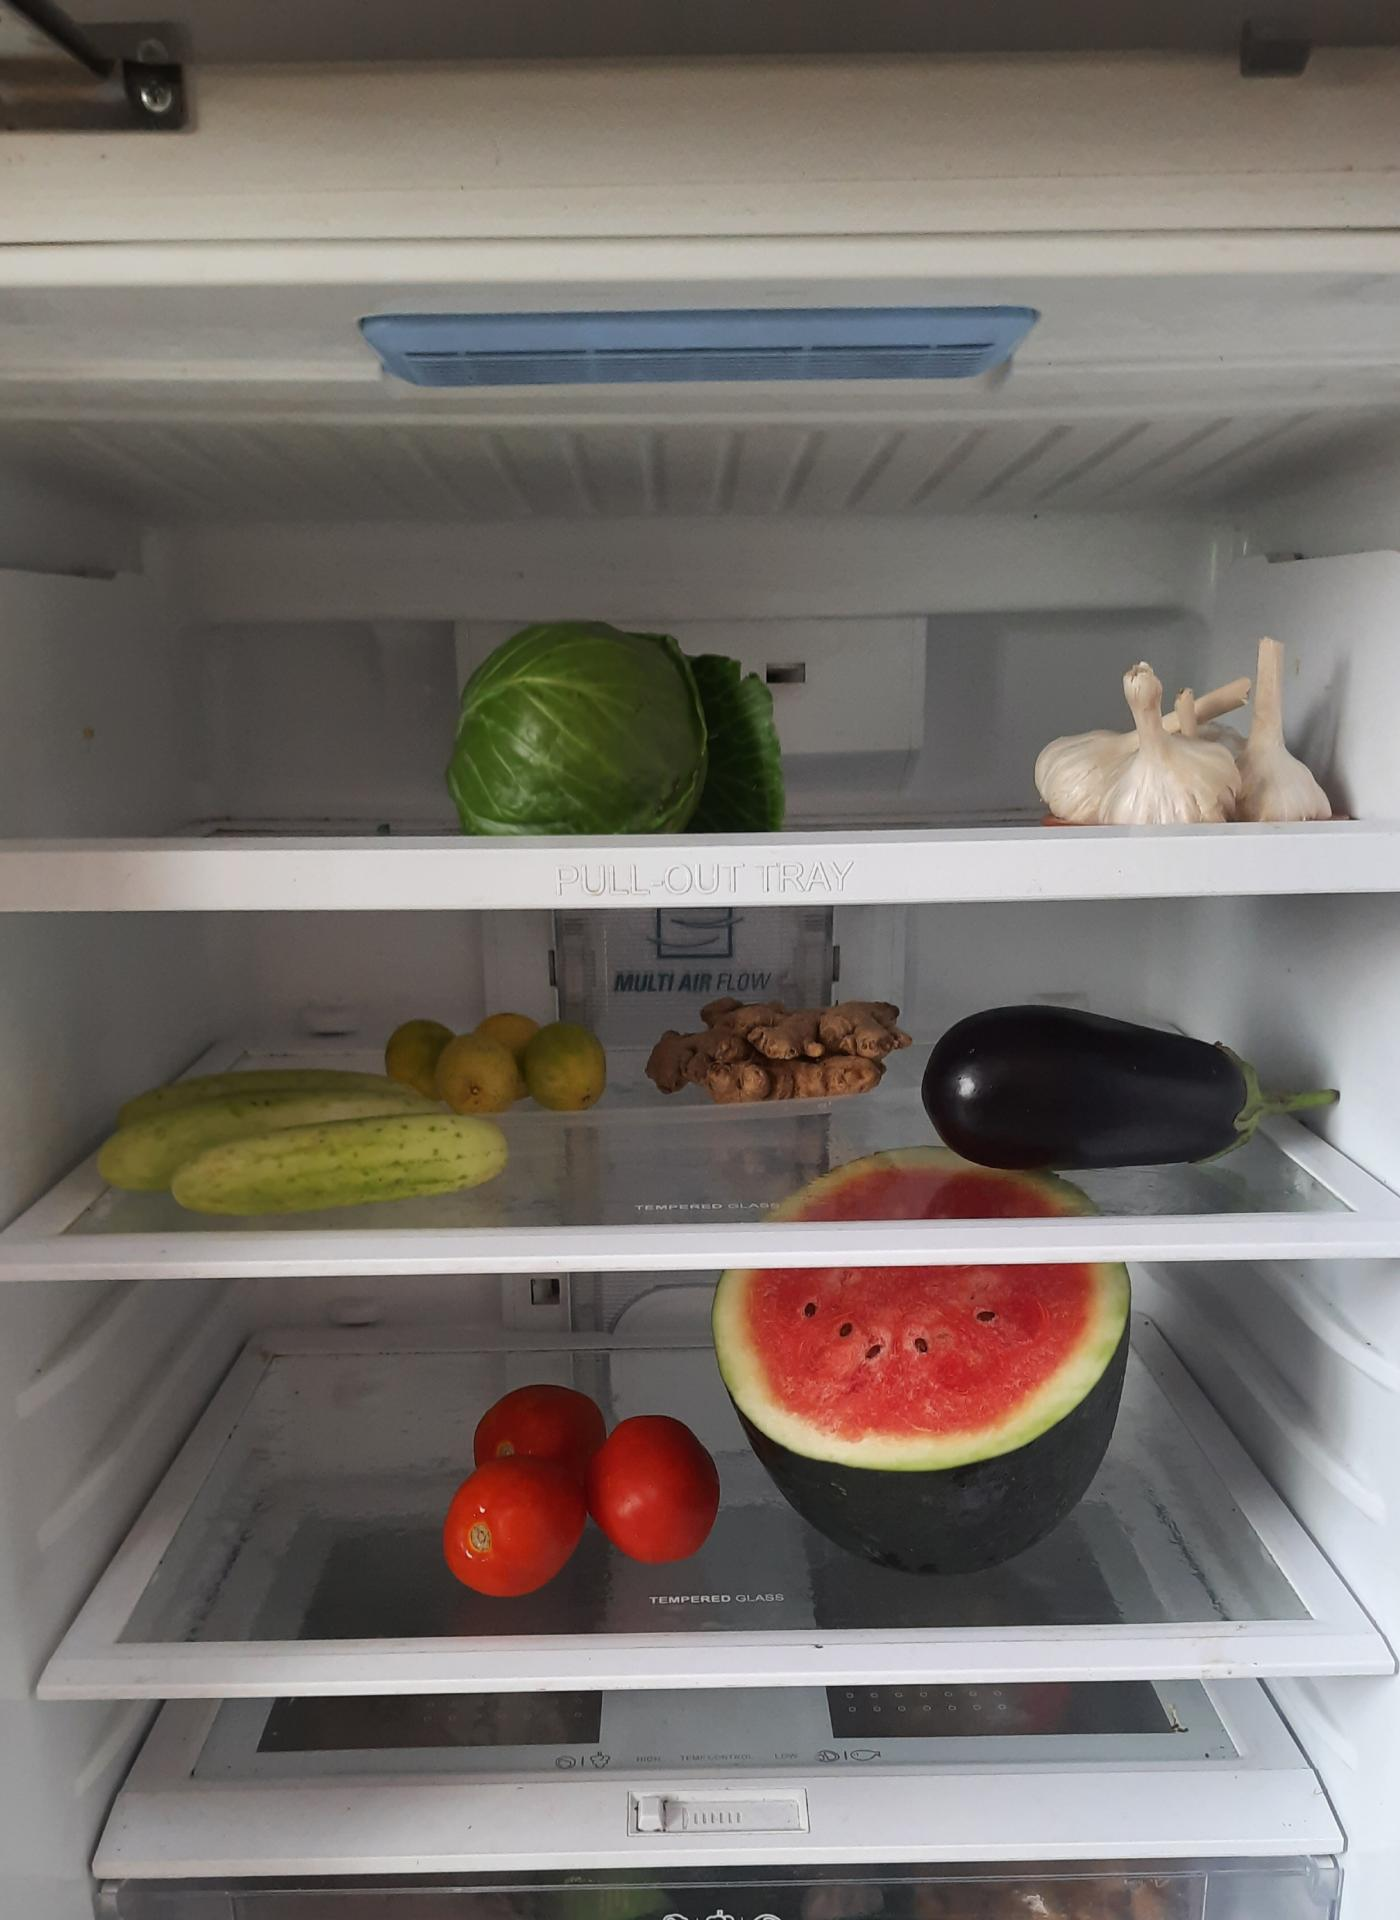brinjal: (917, 994, 1348, 1175)
cabbage: (447, 625, 784, 839)
cucumber: (104, 1087, 508, 1227)
garlic: (1041, 642, 1352, 820)
ginger: (650, 994, 911, 1108)
lemon: (383, 1008, 608, 1114)
tomato: (441, 1383, 719, 1592)
watermelon: (710, 1164, 1145, 1586)
